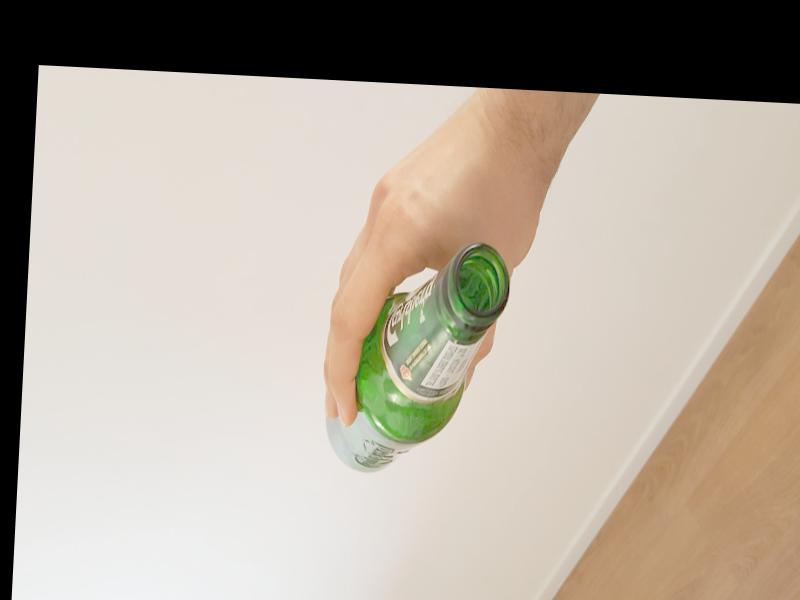Beer: (325, 234, 516, 479)
